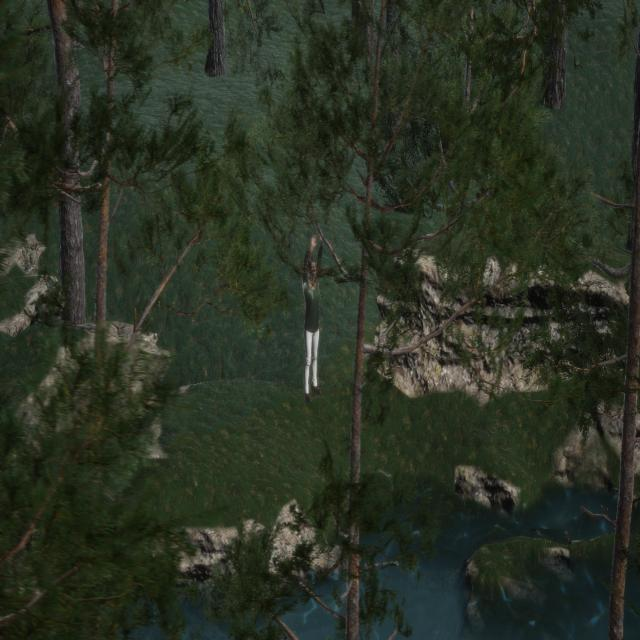Human: (302, 223, 339, 420)
